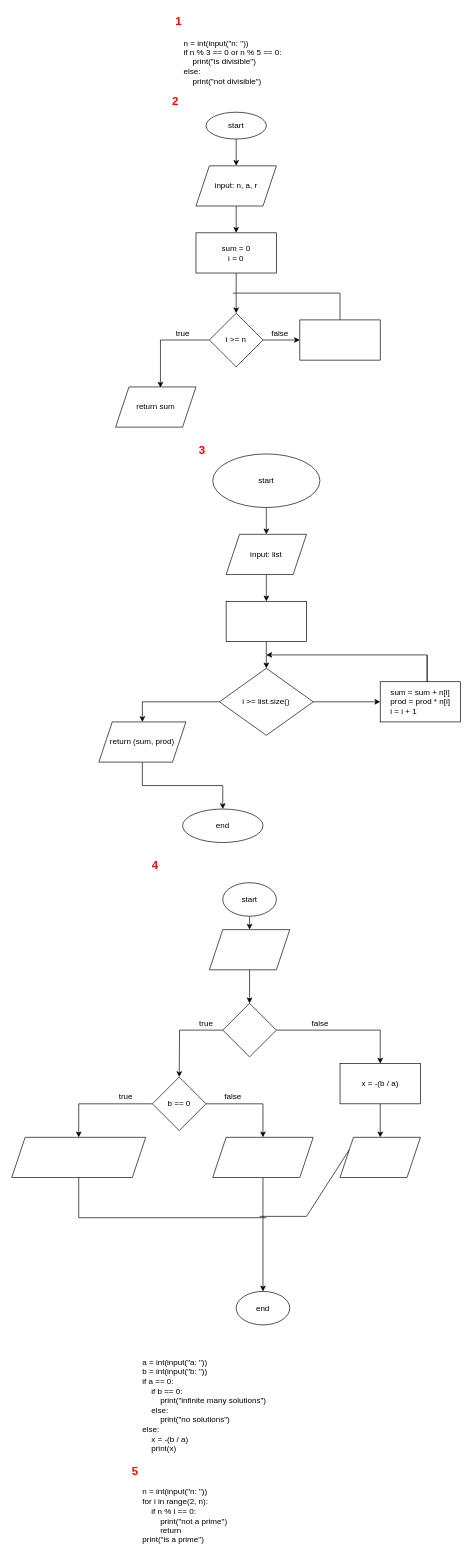
Some shapes in this 472 by 1560 pixel diagram are drawn without their labels. The shapes that lost their labels are listed below. From the top down, each one's centre as x and y in pixels, then its label:
point 339,339: sum = sum + a a = a + r i = i + 1
point 266,621: sum = 0 prod = 0 i = 0
point 249,949: input a, b
point 249,1030: a == 0
point 78,1157: print "infinite many solution"
point 262,1157: print "no solutions"
point 379,1157: print x
